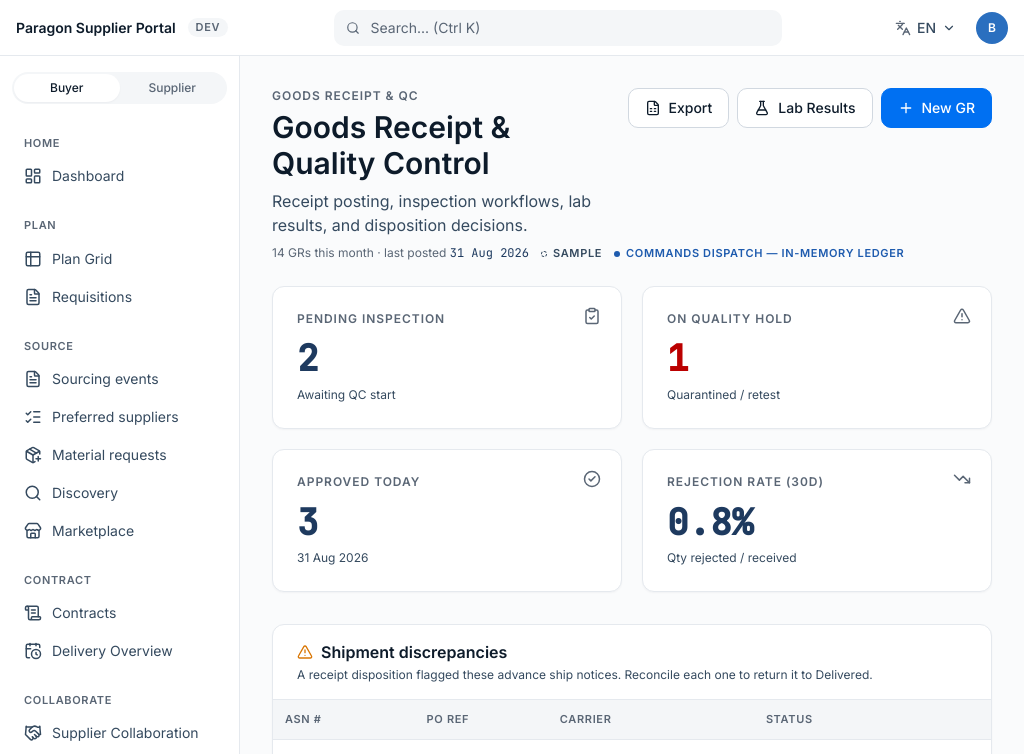
Test: BuyerGoodsReceipt — CP-3 · E4, the enforcement ledger reaches the gate › ⚠️ AND AN `OBSERVE` LEDGER REACHES IT — so the read is WIRED, not decorative
The width and height of the screenshot is (1024, 754).
Expected: the text "Rejection Rate (30d)" is shown, top-left (667, 474), bottom-right (824, 489)
Click the button "New GR" at coordinates (936, 108), box top-left (880, 88), bottom-right (992, 128)
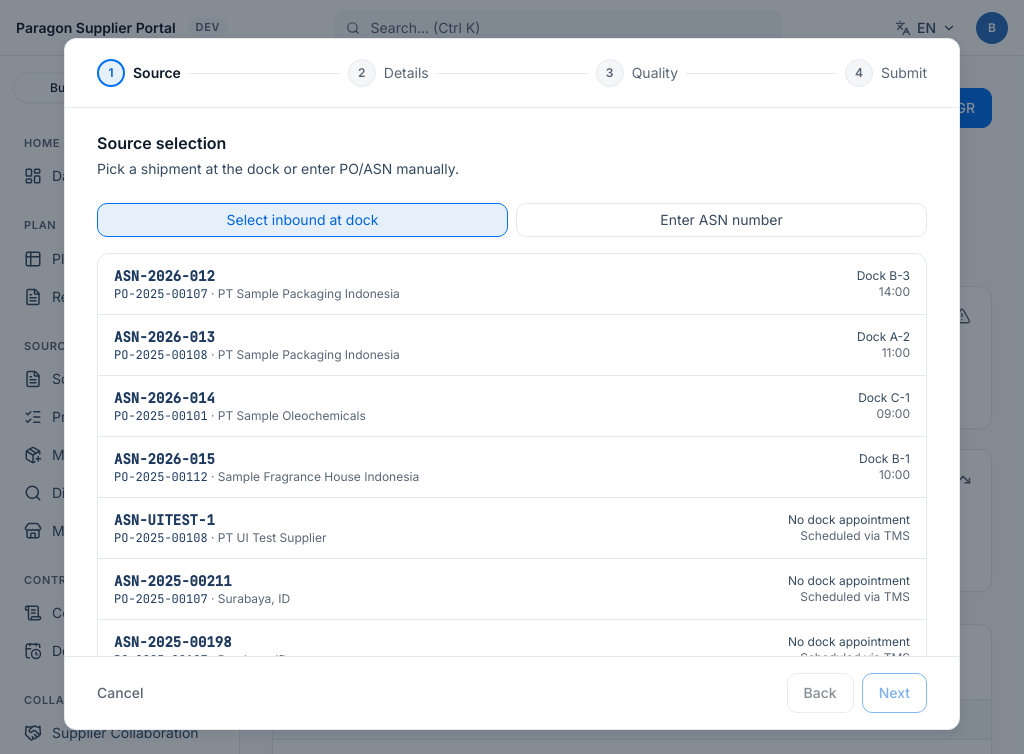
Click the text "ASN-UITEST-1" at coordinates (164, 520), box top-left (114, 511), bottom-right (215, 529)
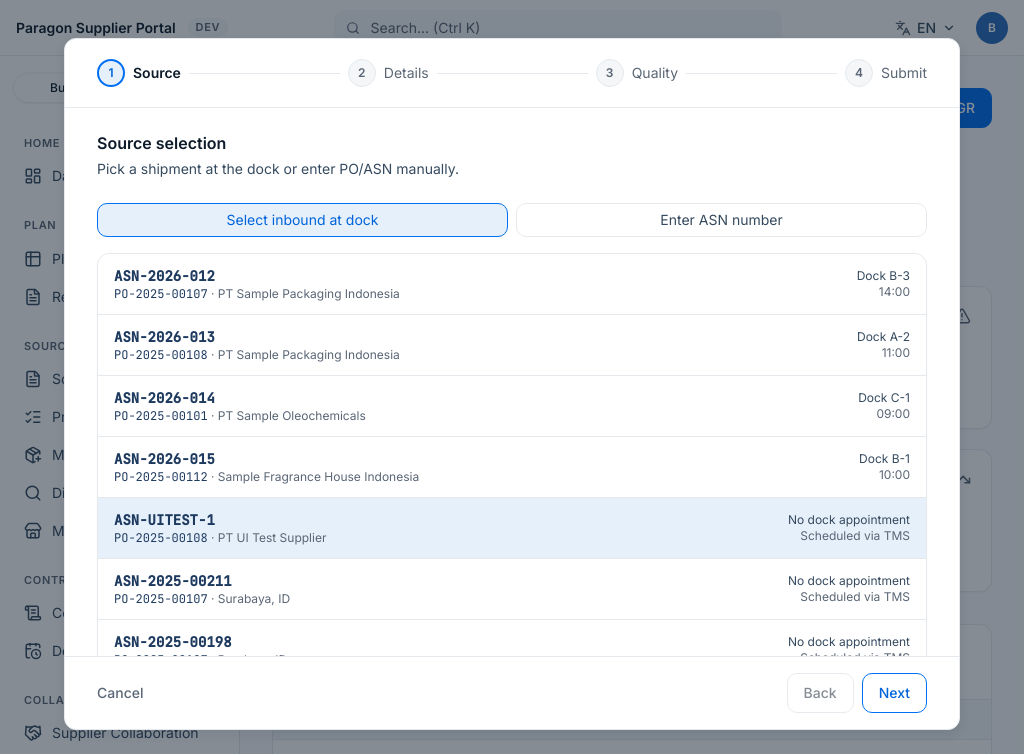
Click the button "Next" at coordinates (894, 693), box top-left (862, 673), bottom-right (927, 713)
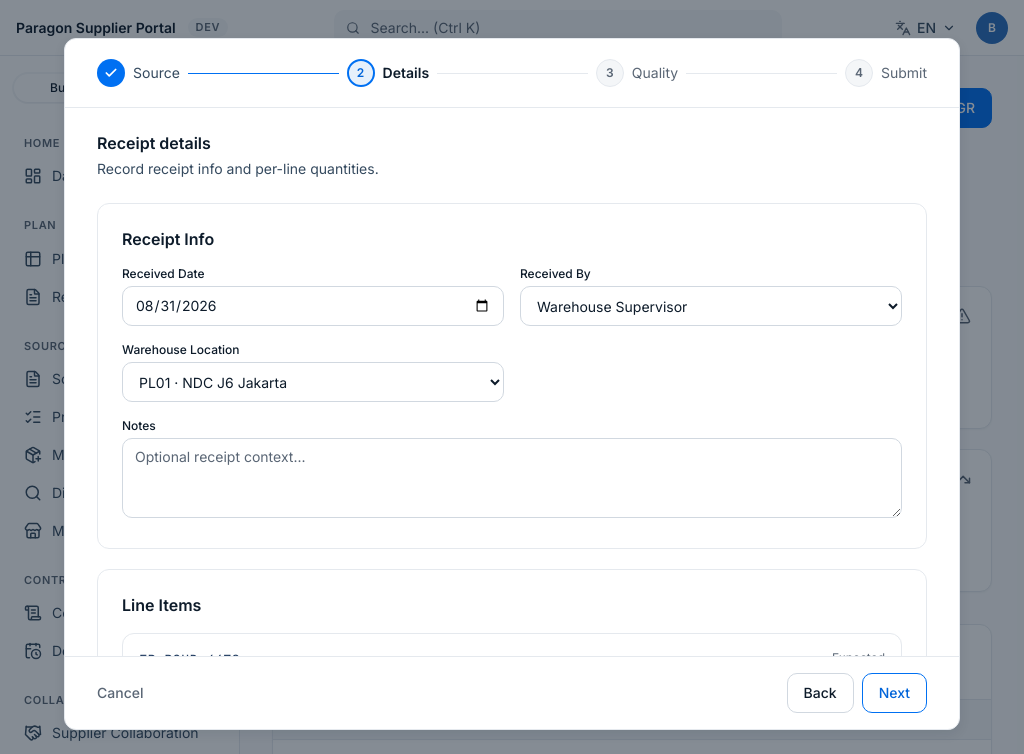
Click the button "Next" at coordinates (894, 693), box top-left (862, 673), bottom-right (927, 713)
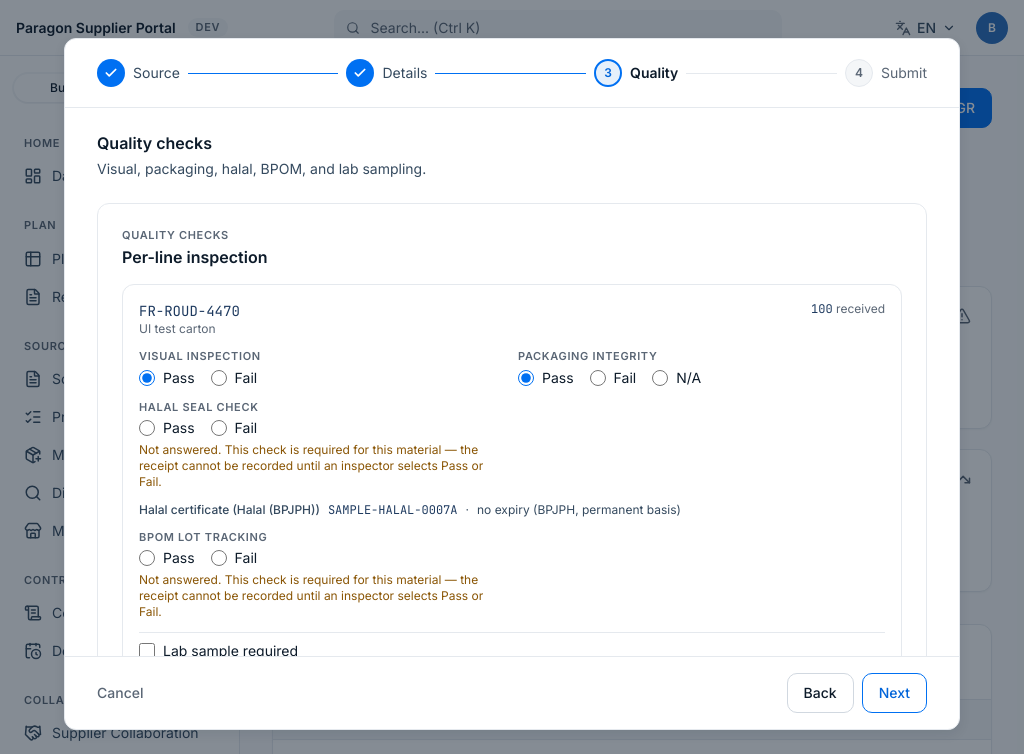
Expected: the button "Next" is enabled, top-left (862, 673), bottom-right (927, 713)
Expected: the radio button labelled "Pass" below "Halal Seal Check" is not checked, top-left (139, 420), bottom-right (155, 436)
Expected: the radio button labelled "Pass" below "BPOM Lot Tracking" is not checked, top-left (139, 550), bottom-right (155, 566)
